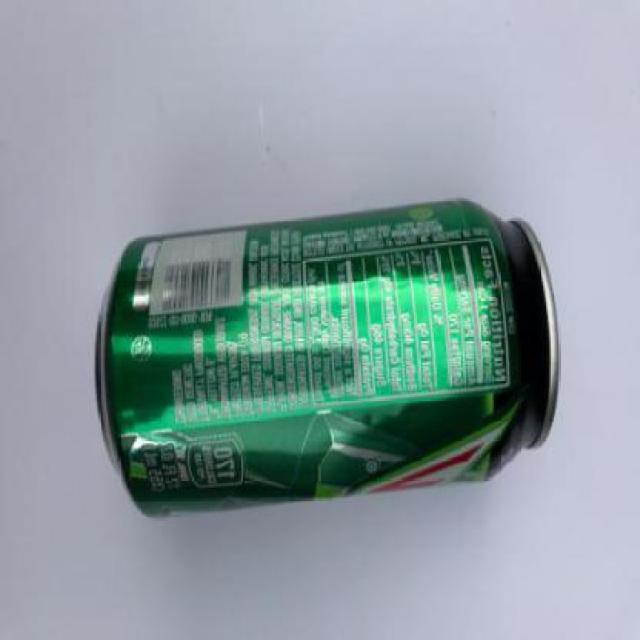METAL: (96, 197, 561, 515)
